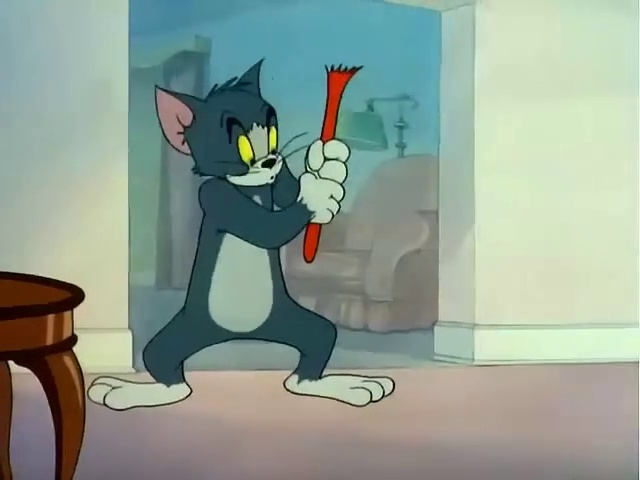tom: (84, 18, 426, 400)
